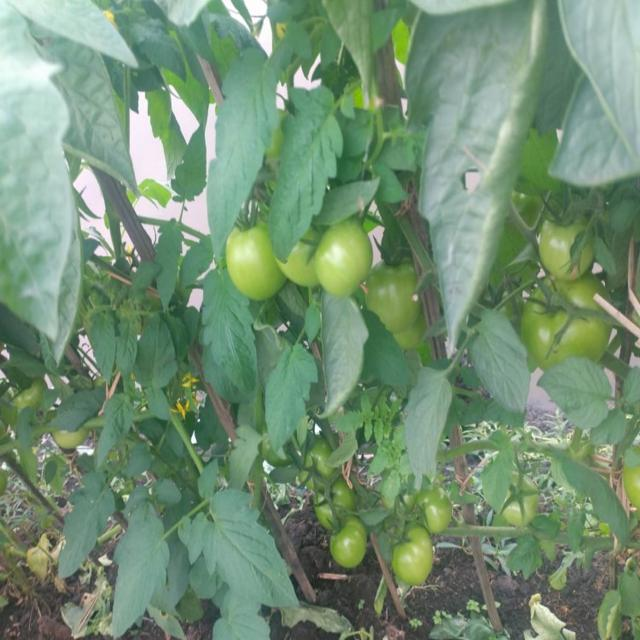tomato: (523, 286, 613, 362), (311, 221, 375, 295), (364, 260, 423, 329), (232, 229, 285, 297), (308, 480, 366, 529), (537, 225, 592, 273), (392, 534, 439, 590), (498, 477, 543, 529), (416, 491, 462, 529), (335, 518, 365, 572), (281, 249, 311, 289), (54, 435, 91, 459), (307, 447, 331, 478), (627, 465, 640, 506)
